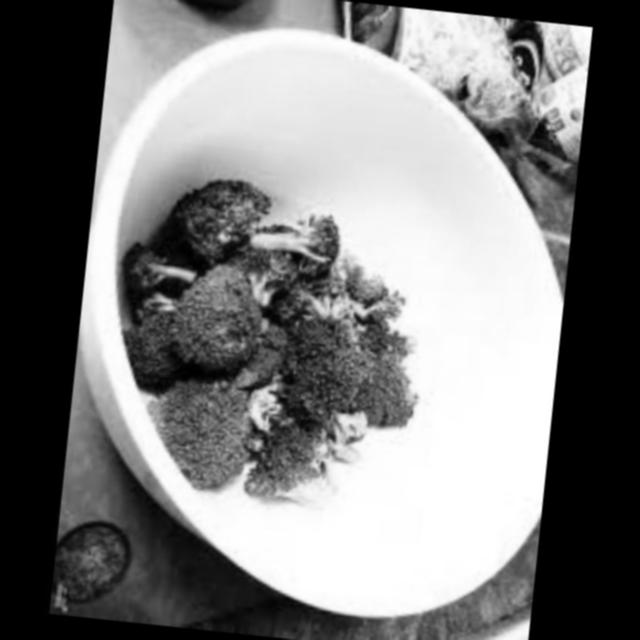broccoli: (92, 144, 439, 512)
